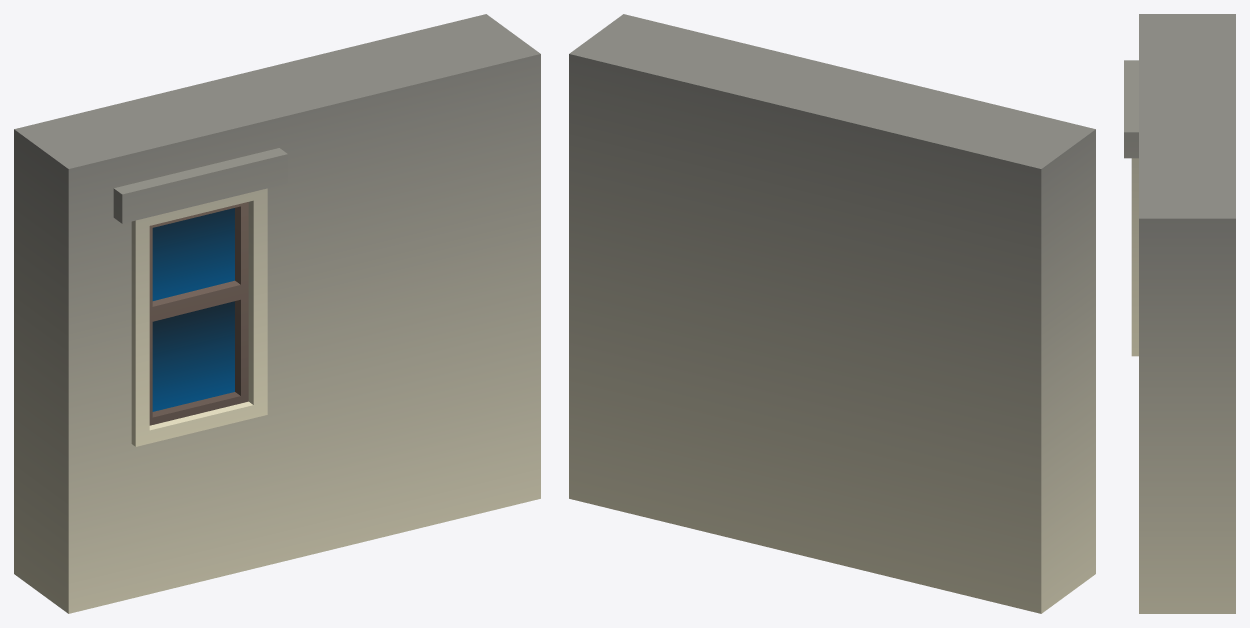
Rendered from B02_fenetre_7.fbx.
3 views of the same model, side by side, from view 1: azimuth 30°, elevation 25°; view 2: azimuth 150°, elevation 25°; view 3: azimuth 270°, elevation 25° (orthographic). The views are drawn at different scales.
Parts seen in each view (by area): view 1: B02_fenetre_7; view 2: B02_fenetre_7; view 3: B02_fenetre_7.
Boxes of the visible parts, x1,y1,x2,y2 form: B02_fenetre_7: (14,14,540,613); B02_fenetre_7: (569,14,1095,613); B02_fenetre_7: (1124,14,1235,613).
Bounding box in the file's own units: 500 × 450 × 116.
